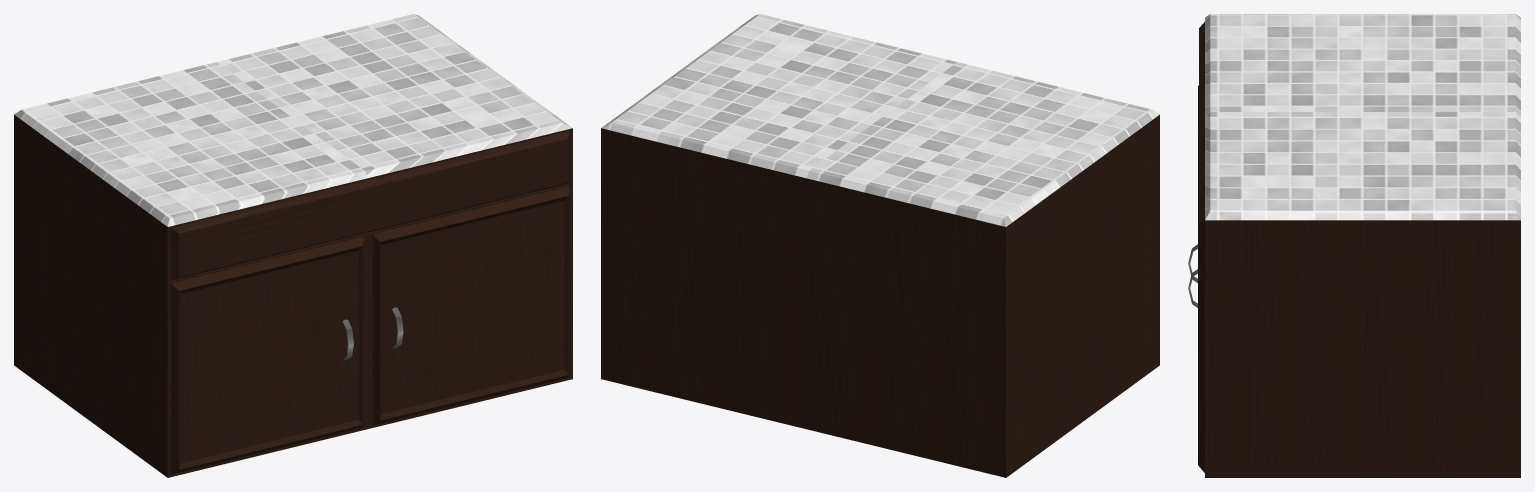
File: Open_Kitchencounter_A_5.FBX
3 renders of one model, left to right at view 1: azimuth 30°, elevation 25°; view 2: azimuth 150°, elevation 25°; view 3: azimuth 270°, elevation 25°, orthographic. The views are drawn at different scales.
Visible parts, largest first — view 1: Open_Counters, Door_ R_2, Door_ R_003, Drawer; view 2: Open_Counters; view 3: Open_Counters, Door_ R_2, Drawer.
Boxes of the visible parts, box(x1,y1,x2,y2) form: Open_Counters: box(14, 14, 572, 477); Door_ R_2: box(372, 186, 569, 425); Door_ R_003: box(171, 237, 363, 474); Drawer: box(171, 131, 569, 280); Open_Counters: box(601, 14, 1159, 477); Open_Counters: box(1205, 14, 1520, 477); Door_ R_2: box(1188, 186, 1204, 472); Drawer: box(1199, 22, 1204, 274).
Size of the model in its own units: 228 by 138 by 158.
